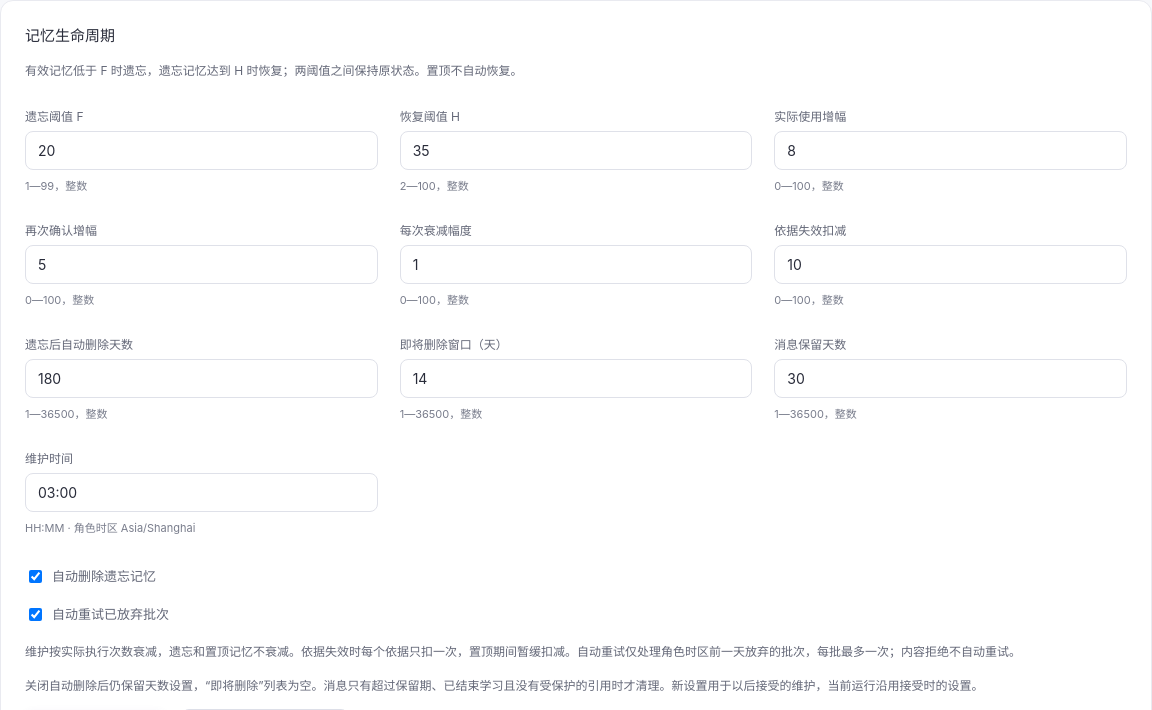
it: 生命周期输入 遗忘阈值 F=0 与后端边界一致
Replace the text in the number field labelled "遗忘阈值 F" with "0" at (201, 151), box [25, 131, 378, 170]
(page scrolled)
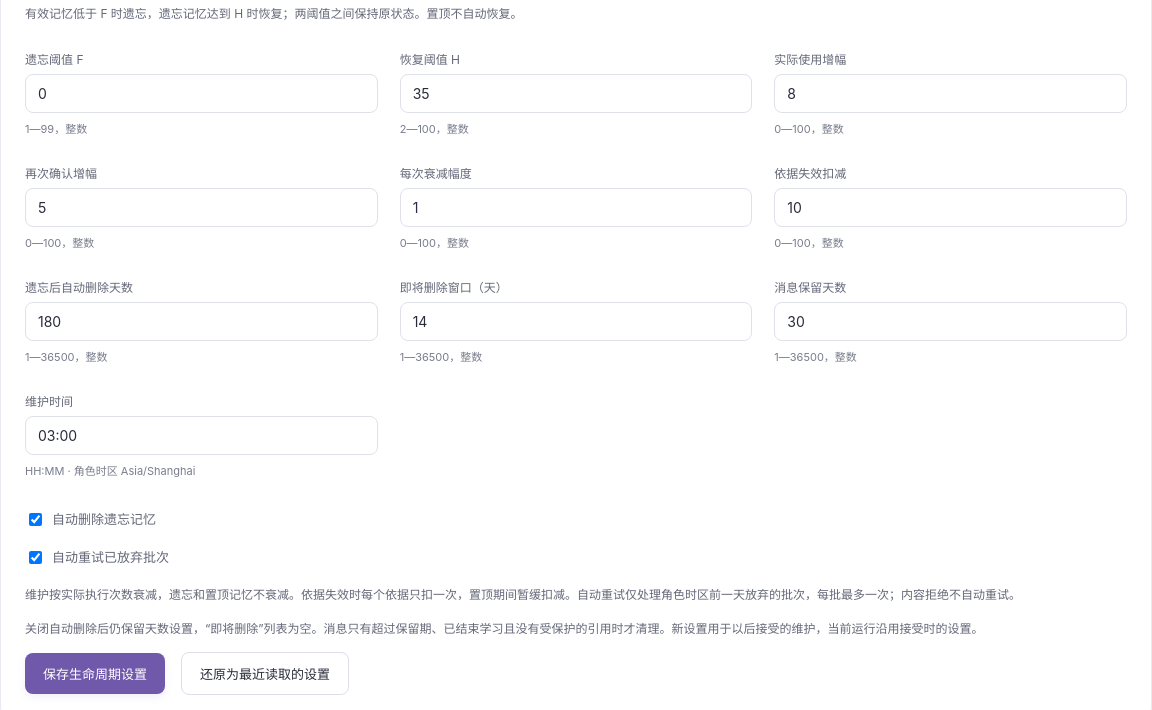
Click the button "保存生命周期设置".
click(95, 674)  # box [25, 654, 165, 694]
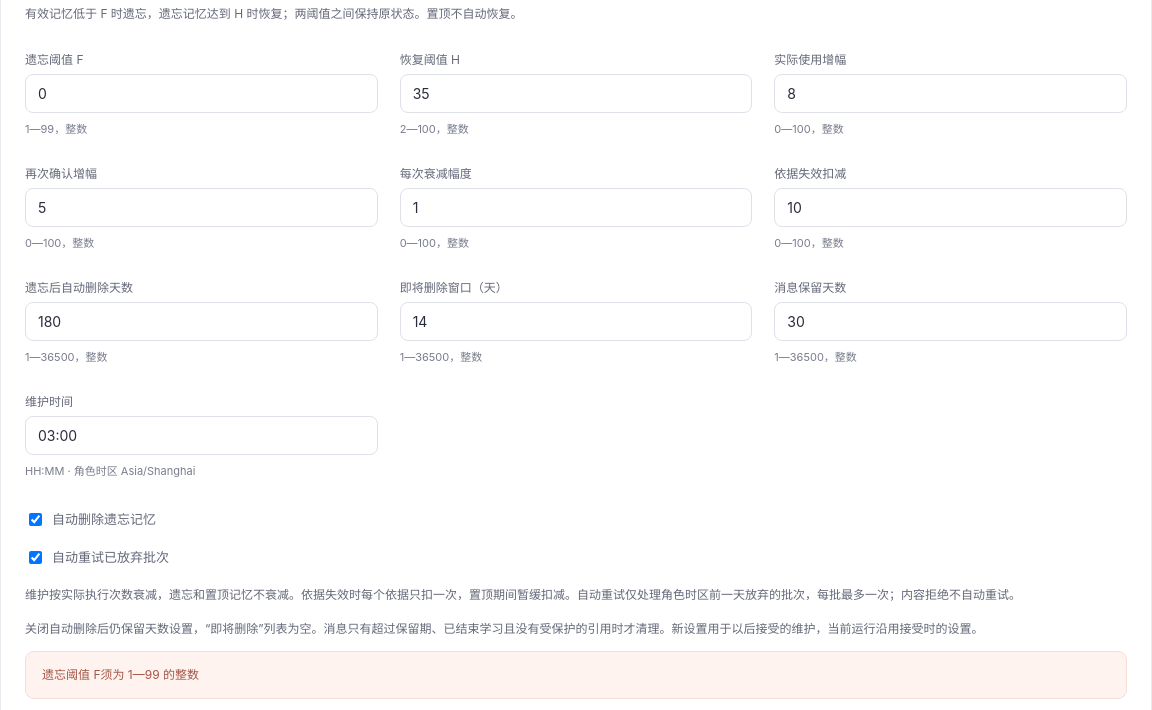
Expected: the message is shown, [25, 652, 1127, 699]
